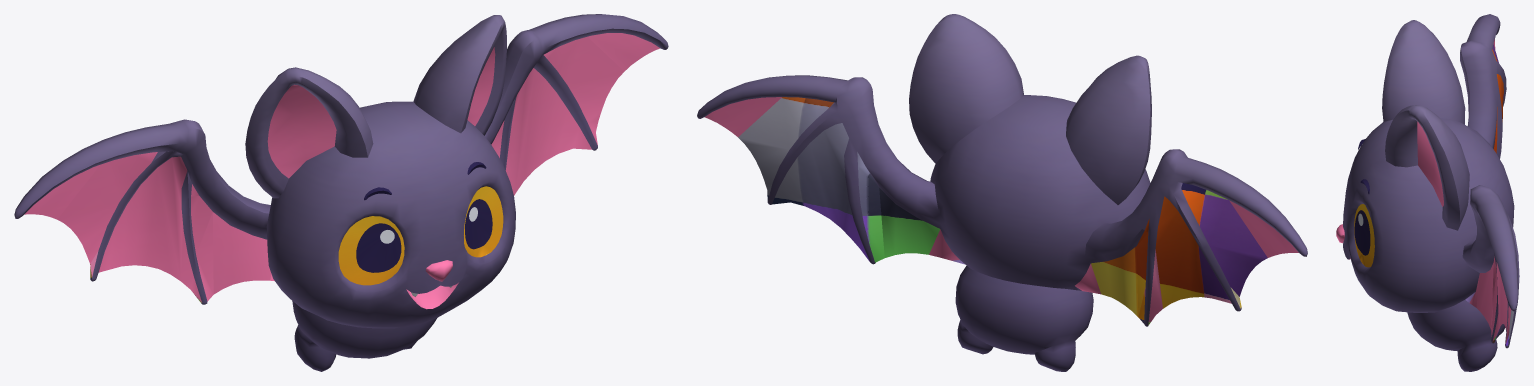
File: bat.glb
The picture shows the model from 3 angles, left to right: view 1: azimuth 30°, elevation 25°; view 2: azimuth 150°, elevation 25°; view 3: azimuth 270°, elevation 25°; orthographic projection. The views are drawn at different scales.
Parts seen in each view (by area): view 1: WBA_Decoration_Bat_01; view 2: WBA_Decoration_Bat_01; view 3: WBA_Decoration_Bat_01.
Boxes of the visible parts, box(x1,y1,x2,y2) form: WBA_Decoration_Bat_01: box(14, 14, 668, 371); WBA_Decoration_Bat_01: box(697, 14, 1307, 371); WBA_Decoration_Bat_01: box(1336, 14, 1519, 371).
Size of the model in its own units: 0.3997 by 0.1943 by 0.1115.
1 material, 1 textured.
